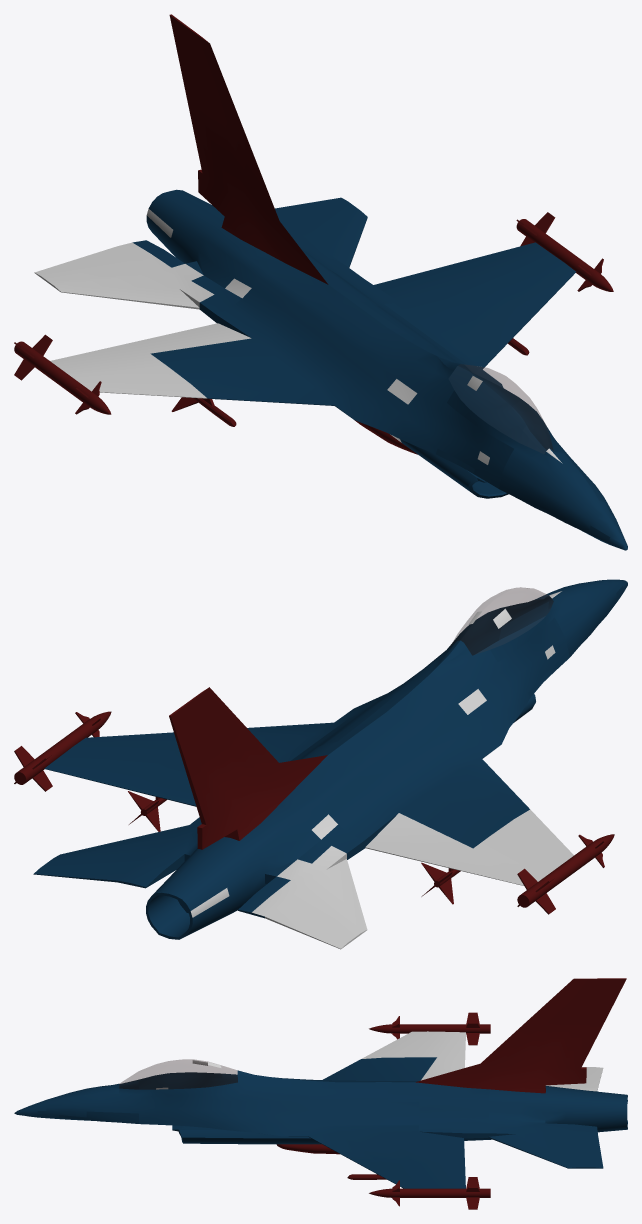
The picture shows the model from 3 angles, top to bottom: view 1: azimuth 30°, elevation 25°; view 2: azimuth 150°, elevation 25°; view 3: azimuth 270°, elevation 25°; orthographic projection. The views are drawn at different scales.
Parts seen in each view (by area): view 1: f16body, wings, rudder, stabs, bombs, glass, thrust; view 2: f16body, wings, rudder, stabs, bombs, thrust, glass; view 3: f16body, wings, rudder, bombs, stabs, glass, thrust, fueltank.
Boxes of the visible parts, left/top/right/bottom form: f16body: left=118, top=206, right=627, bottom=550; wings: left=50, top=242, right=575, bottom=405; rudder: left=169, top=14, right=328, bottom=284; stabs: left=34, top=197, right=367, bottom=309; bombs: left=14, top=212, right=613, bottom=426; glass: left=449, top=364, right=552, bottom=453; thrust: left=146, top=189, right=213, bottom=256; f16body: left=117, top=579, right=627, bottom=919; wings: left=44, top=722, right=573, bottom=885; rudder: left=169, top=687, right=327, bottom=849; stabs: left=33, top=825, right=367, bottom=949; bombs: left=14, top=711, right=614, bottom=914; thrust: left=146, top=864, right=229, bottom=939; glass: left=450, top=587, right=553, bottom=654; f16body: left=14, top=1070, right=597, bottom=1144; wings: left=308, top=1031, right=465, bottom=1188; rudder: left=415, top=978, right=626, bottom=1093; bombs: left=347, top=1012, right=490, bottom=1209; stabs: left=488, top=1067, right=603, bottom=1168; glass: left=119, top=1059, right=237, bottom=1088; thrust: left=586, top=1090, right=627, bottom=1132; fueltank: left=276, top=1144, right=339, bottom=1154.
Size of the model in its own units: 7.92 by 3.67 by 11.76.
